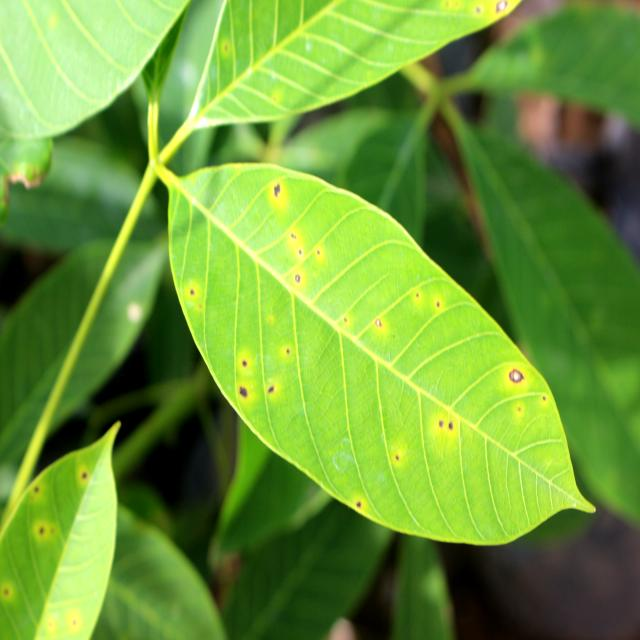Colletotrichum: (509, 369, 522, 384)
